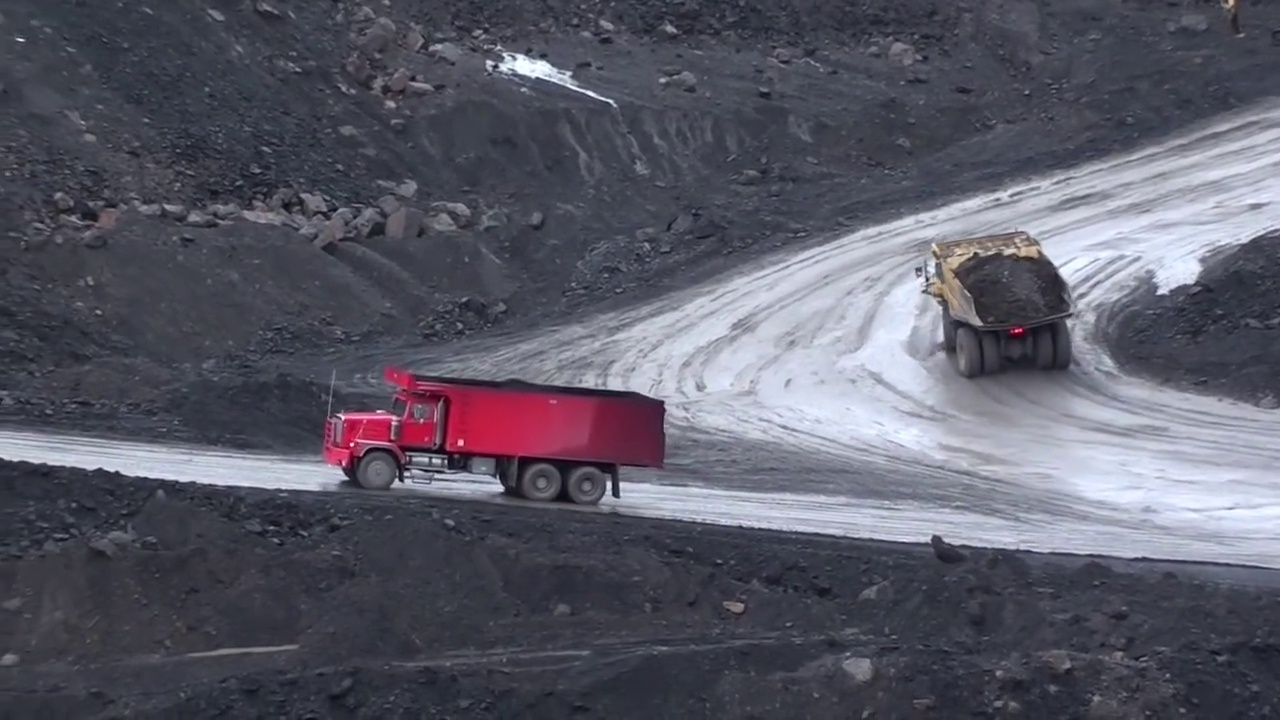dumper: (913, 230, 1078, 374)
truck: (323, 364, 671, 517)
